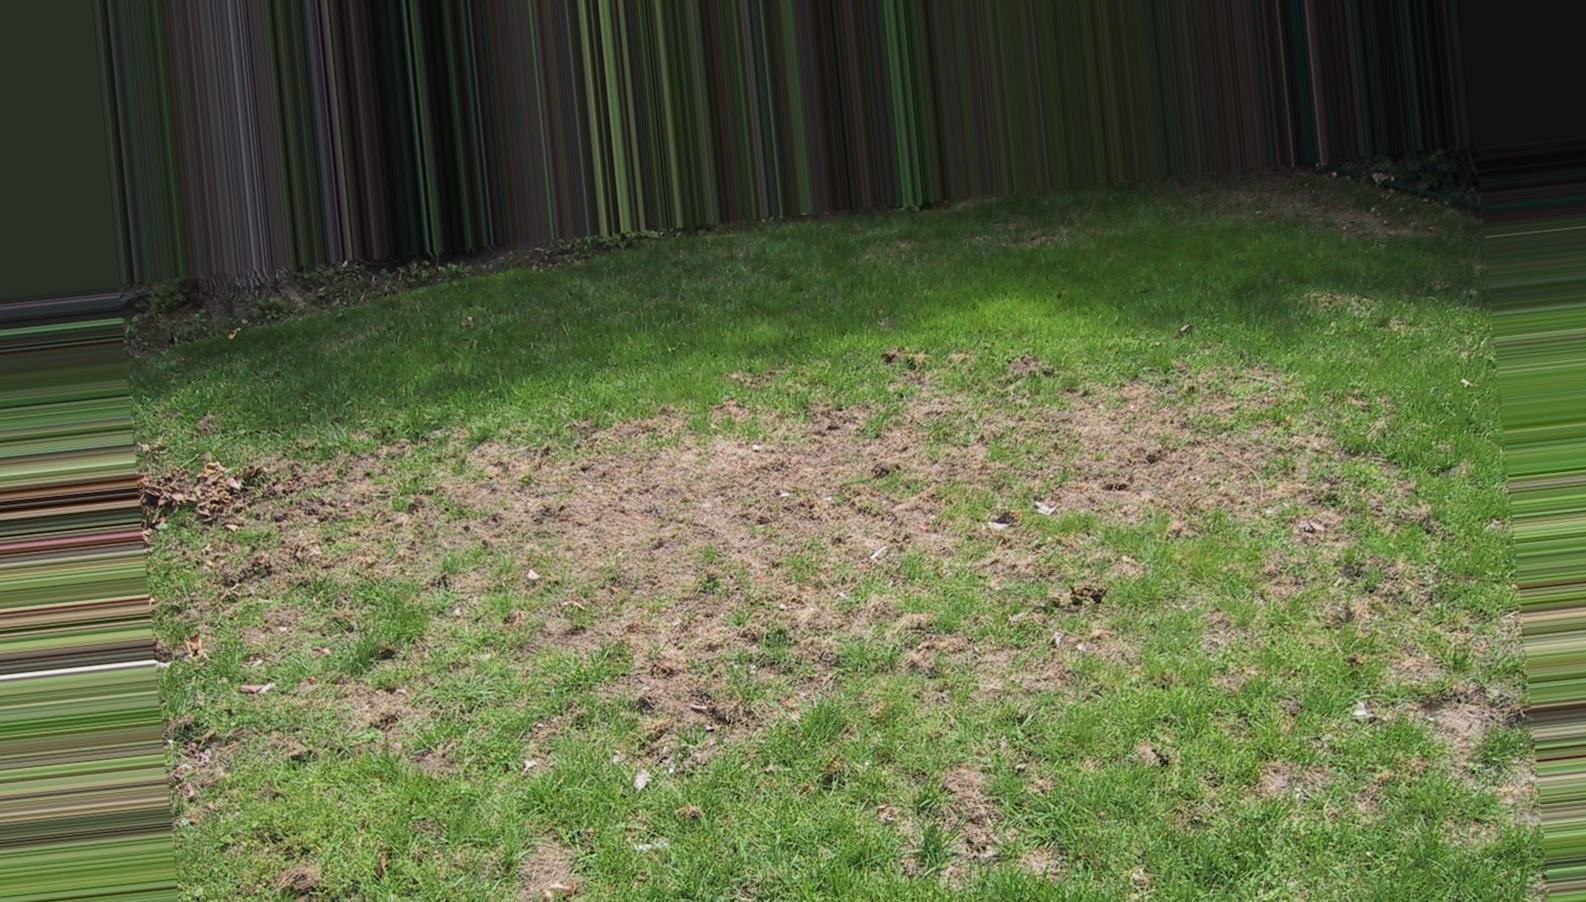patch: (535, 456, 868, 639), (915, 417, 1219, 571), (932, 610, 1065, 726)
